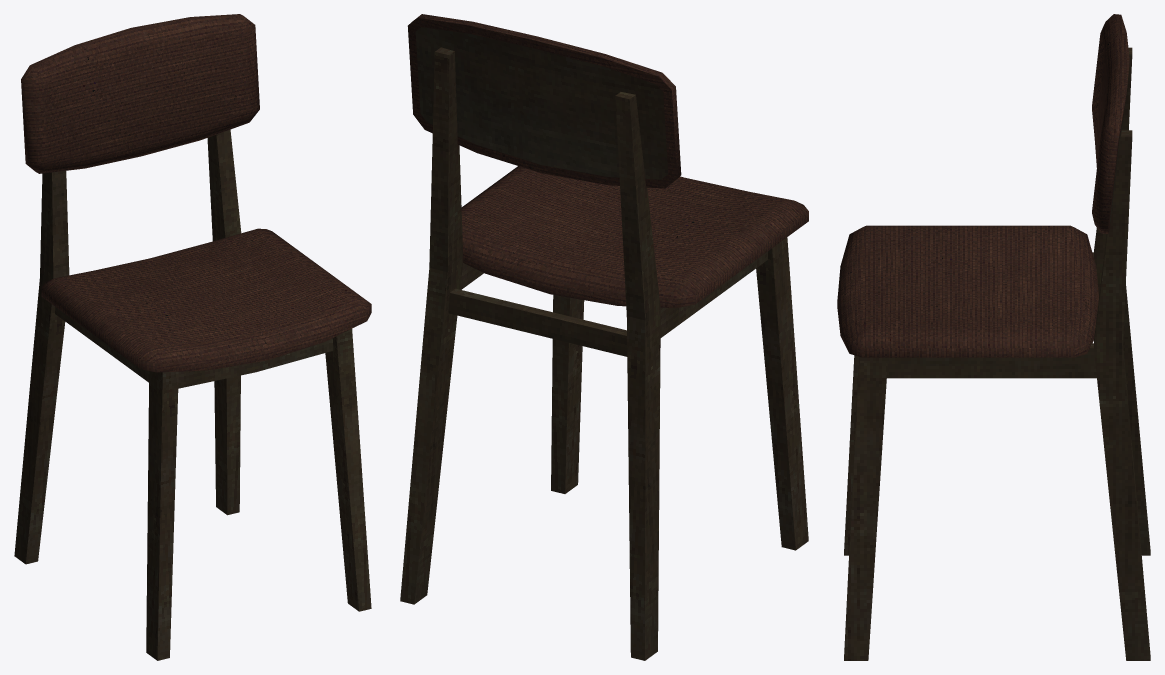
The model's file is chair_mp_4.glb.
3 renders of one model, left to right at view 1: azimuth 30°, elevation 25°; view 2: azimuth 150°, elevation 25°; view 3: azimuth 270°, elevation 25°, orthographic. The views are drawn at different scales.
Visible parts, largest first — view 1: chair_mp_4; view 2: chair_mp_4; view 3: chair_mp_4.
Part boxes in pixels (bbox=[...]): chair_mp_4: bbox=[14, 14, 371, 660]; chair_mp_4: bbox=[400, 14, 808, 660]; chair_mp_4: bbox=[837, 14, 1150, 660].
Bounding box in the file's own units: 0.4763 × 1.01 × 0.5226.
2 materials, 2 textured.
